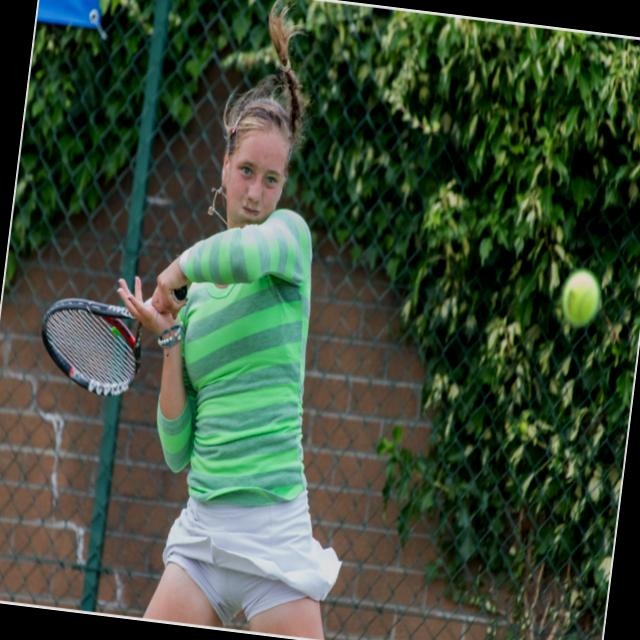Tennis Ball: (562, 272, 600, 326)
